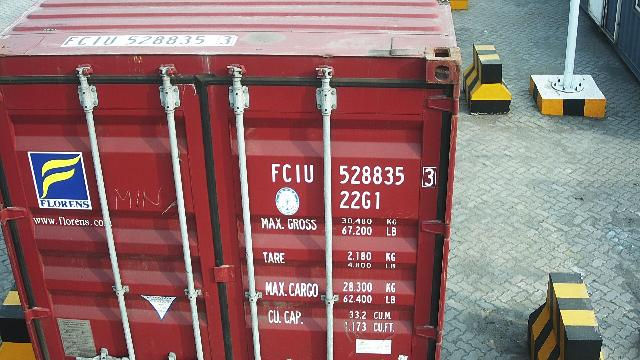2: (351, 165, 361, 185)
3: (423, 166, 437, 187), (384, 166, 394, 185)
5: (395, 166, 405, 186), (339, 164, 349, 184)
8: (361, 166, 371, 184), (373, 166, 382, 184)
C: (282, 164, 292, 182)
F: (270, 162, 280, 182)
I: (296, 164, 300, 184)
U: (304, 163, 314, 183)
